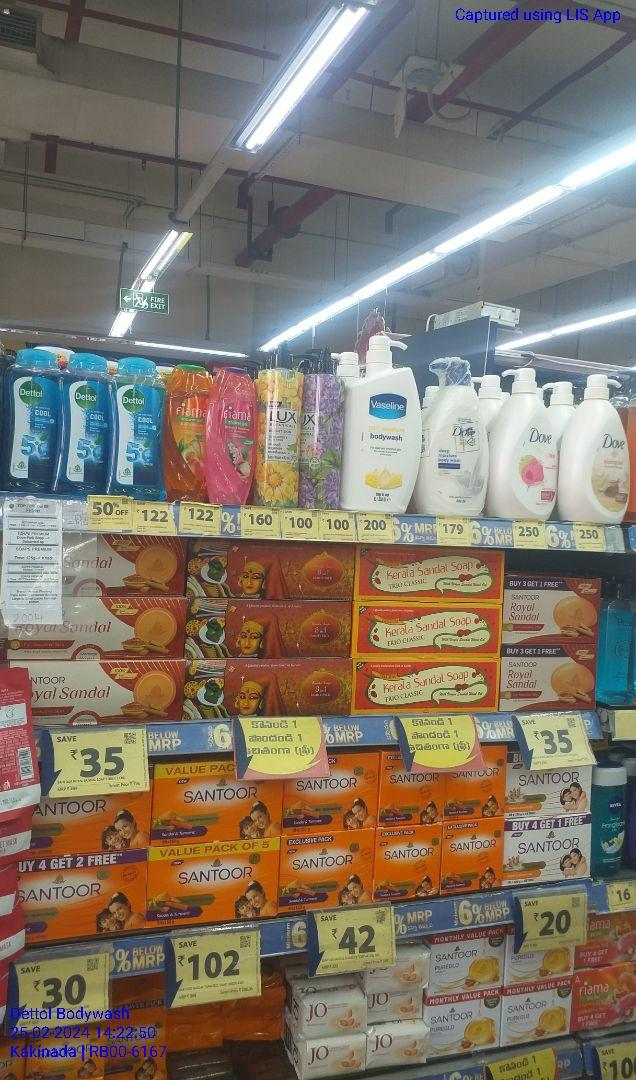Dettol_Bodywash_Cool: (4, 349, 57, 492), (63, 352, 115, 495), (116, 357, 164, 500)
Fiama_Shower_Gel_Patchouli_and_Macadamia_250ML: (212, 367, 256, 506)
Fiama_Shower_Gel_Peach_and_Avocado_250ML: (169, 366, 207, 501)
